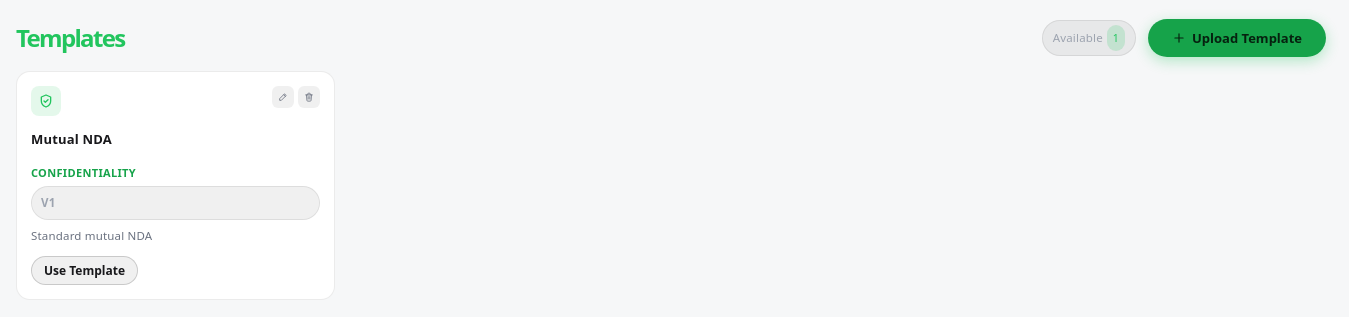
Templates page › deletes a template after confirmation
Expected: the text "Mutual NDA" is shown, [31,130,112,148]
Step 1. Click the button named "delete mutual nda" → (308, 97), box [298,86,320,108]
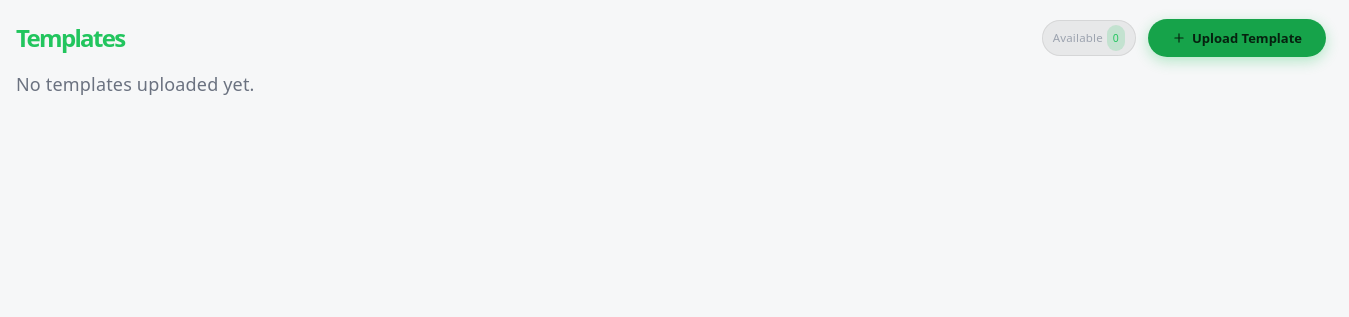
Result: the text "Mutual NDA" is gone
